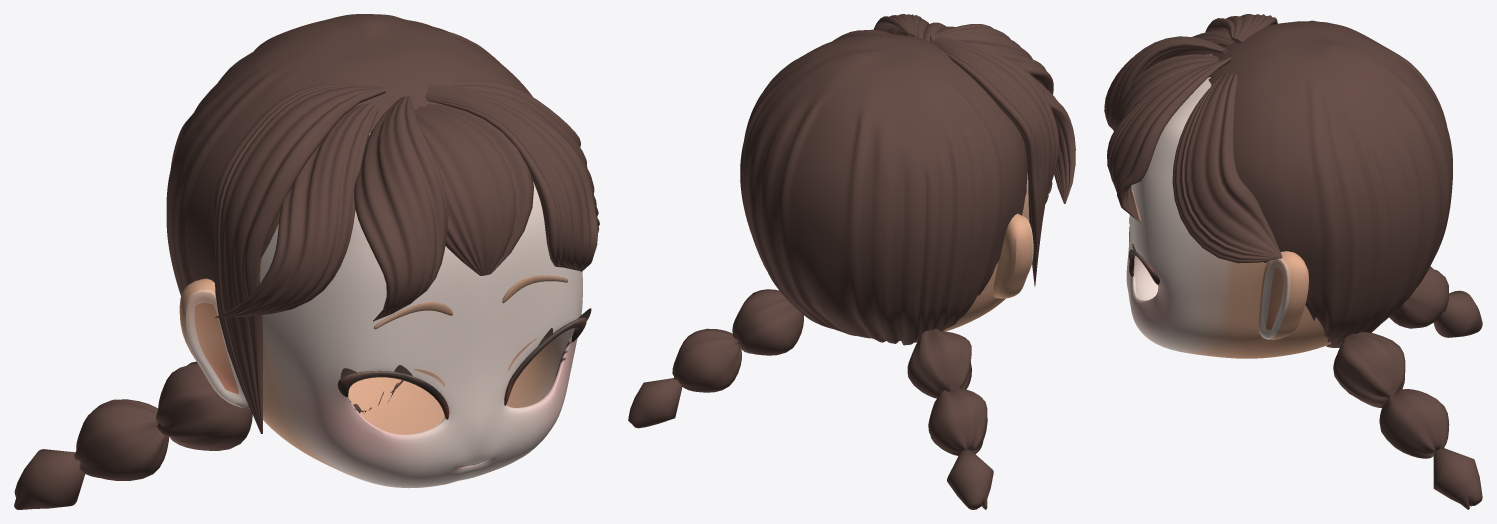
Rendered from QQforscan.fbx.
3 renders of one model, left to right at view 1: azimuth 30°, elevation 25°; view 2: azimuth 150°, elevation 25°; view 3: azimuth 270°, elevation 25°, orthographic. The views are drawn at different scales.
Visible parts, largest first — view 1: Nurbs曲線.001, nao, 球體, 球體.001; view 2: 球體, 球體.001, Nurbs曲線.001, nao; view 3: 球體, nao, Nurbs曲線.001, 球體.001.
Boxes of the visible parts, x1,y1,x2,y2 form: Nurbs曲線.001: (214, 80, 599, 433); nao: (179, 133, 591, 488); 球體: (166, 14, 532, 413); 球體.001: (14, 361, 252, 509); 球體: (740, 33, 1027, 345); 球體.001: (628, 289, 993, 509); Nurbs曲線.001: (832, 14, 1075, 286); nao: (943, 173, 1052, 331); 球體: (1208, 20, 1452, 347); nao: (1126, 54, 1330, 358); Nurbs曲線.001: (1104, 14, 1282, 263); 球體.001: (1333, 266, 1482, 509).
Size of the model in its own units: 98.11 by 94.25 by 85.05.
